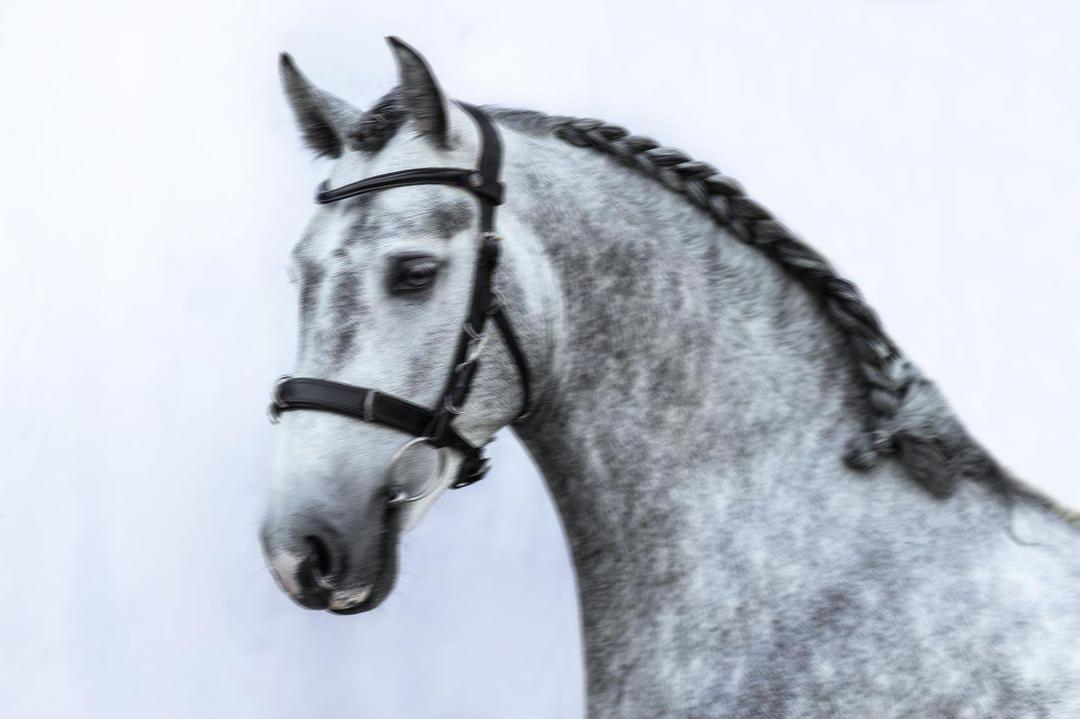horse: (257, 33, 1079, 717)
